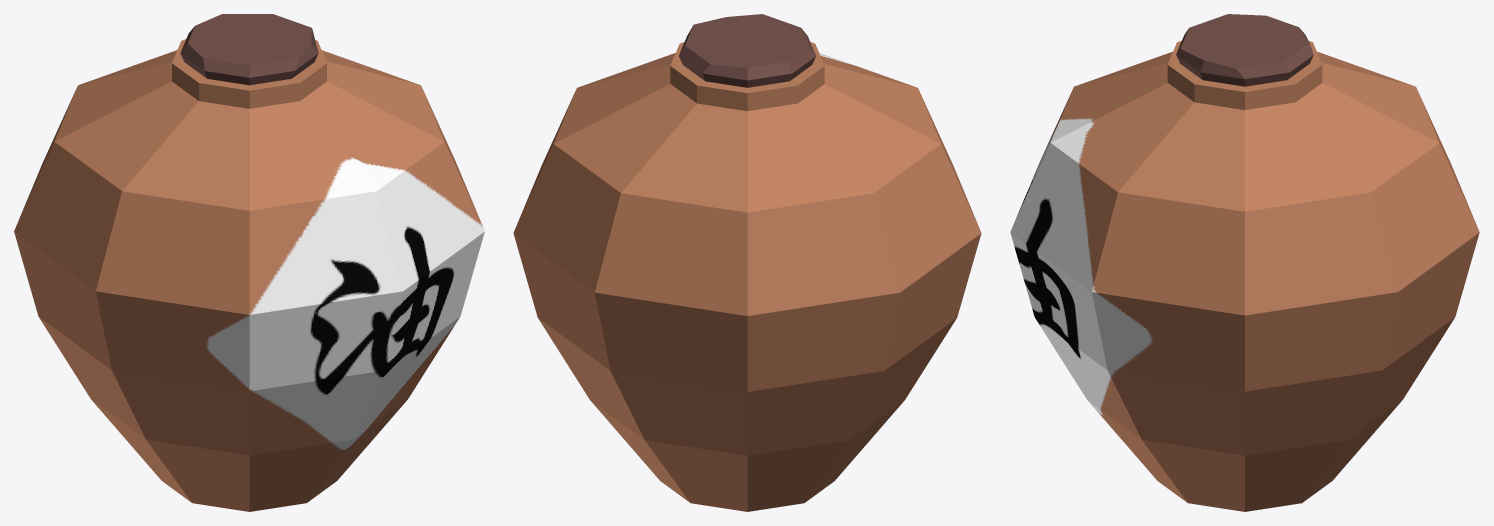
Rendered from urn02.fbx.
3 renders of one model, left to right at view 1: azimuth 30°, elevation 25°; view 2: azimuth 150°, elevation 25°; view 3: azimuth 270°, elevation 25°, orthographic.
Parts seen in each view (by area): view 1: urn02; view 2: urn02; view 3: urn02.
Boxes of the visible parts, x1,y1,x2,y2 form: urn02: (14, 14, 484, 511); urn02: (513, 14, 981, 511); urn02: (1010, 14, 1479, 511).
Bounding box in the file's own units: 0.3418 × 0.354 × 0.347.
